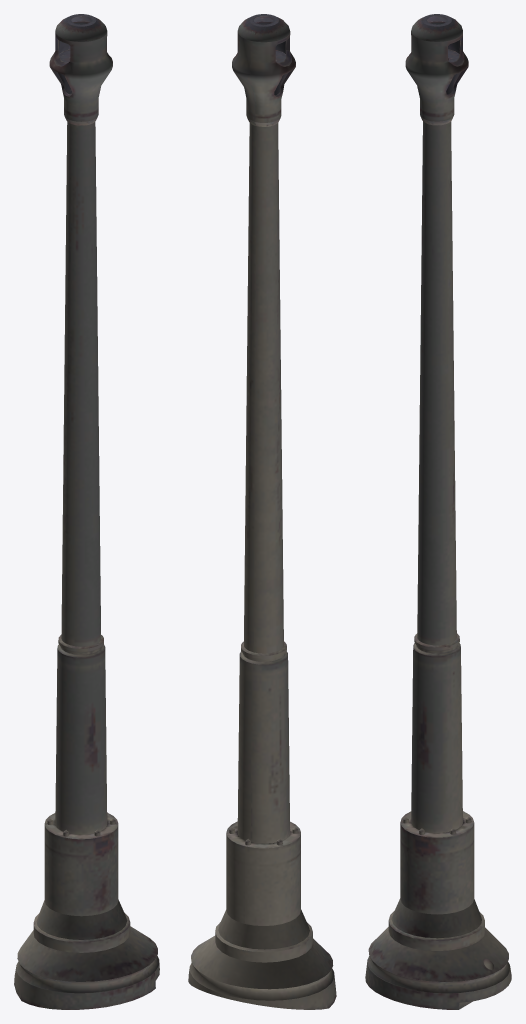
Rendered from Gun_05.glb.
3 renders of one model, left to right at view 1: azimuth 30°, elevation 25°; view 2: azimuth 150°, elevation 25°; view 3: azimuth 330°, elevation 25°, orthographic.
Parts seen in each view (by area): view 1: set_0_group_0; view 2: set_0_group_0; view 3: set_0_group_0.
Part boxes in pixels (x1,y1,x2,y2): set_0_group_0: (14, 14, 159, 1009); set_0_group_0: (188, 14, 336, 1009); set_0_group_0: (365, 14, 511, 1009).
Size of the model in its own units: 0.7126 by 5.02 by 0.6135.
Materials: 1 (1 with a texture image).
